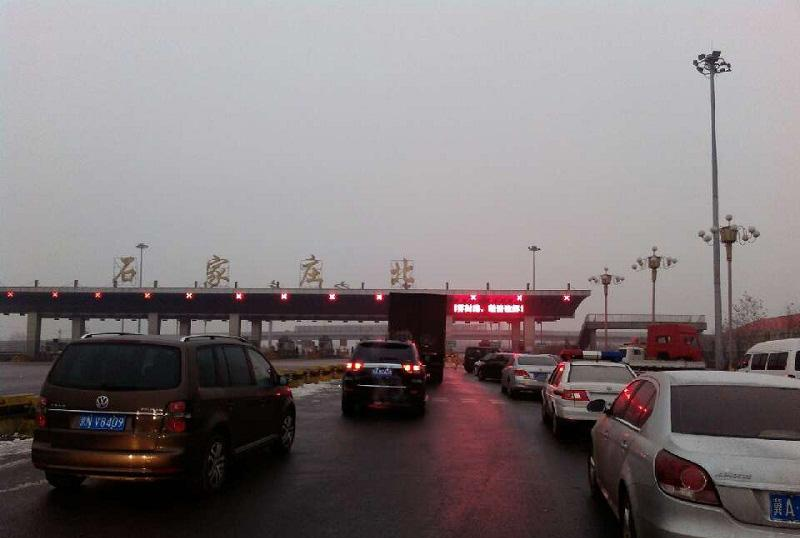bus: (384, 290, 451, 385)
car: (31, 331, 297, 491), (586, 367, 800, 538), (541, 349, 646, 435), (341, 339, 429, 419), (727, 337, 800, 404), (499, 354, 564, 399), (473, 351, 520, 382), (464, 345, 502, 373)
